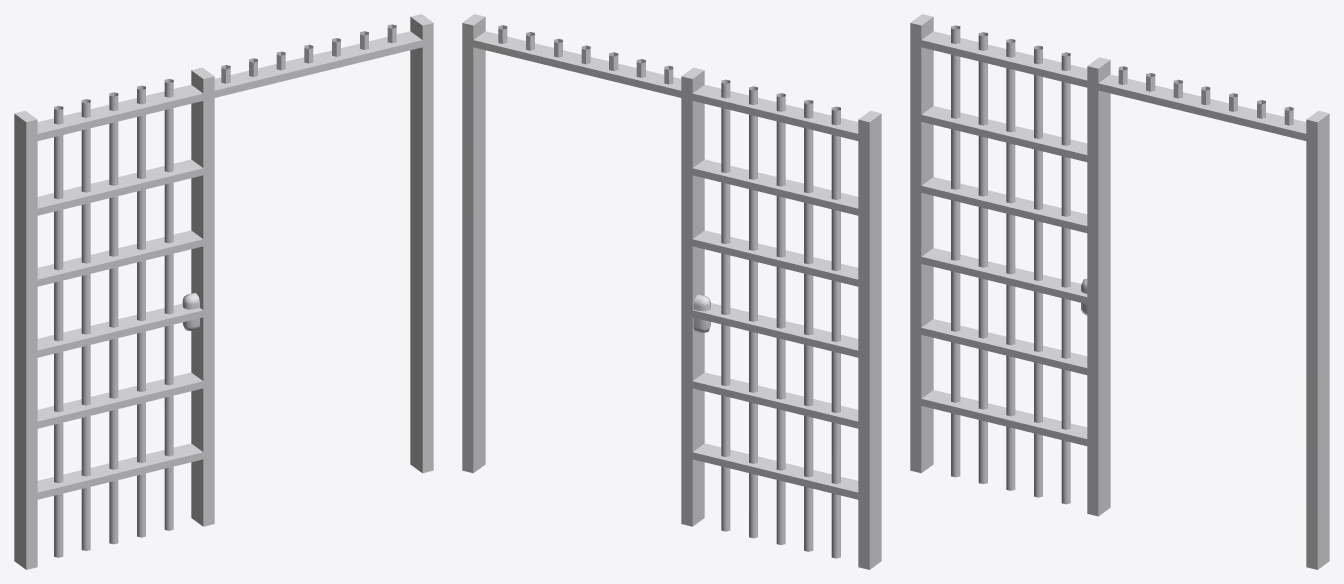
Rendered from SM_Buildings_DoubleDoorFrame_02.fbx.
3 renders of one model, left to right at view 1: azimuth 30°, elevation 25°; view 2: azimuth 150°, elevation 25°; view 3: azimuth 330°, elevation 25°, orthographic.
Parts seen in each view (by area): view 1: SM_Buildings_DoubleDoorFrame_02; view 2: SM_Buildings_DoubleDoorFrame_02; view 3: SM_Buildings_DoubleDoorFrame_02.
Boxes of the visible parts, left/top/right/bottom form: SM_Buildings_DoubleDoorFrame_02: left=14, top=14, right=433, bottom=569; SM_Buildings_DoubleDoorFrame_02: left=462, top=14, right=881, bottom=569; SM_Buildings_DoubleDoorFrame_02: left=910, top=14, right=1329, bottom=569.
Size of the model in its own units: 200 by 210 by 10.31.
Materials: 1 (1 with a texture image).
